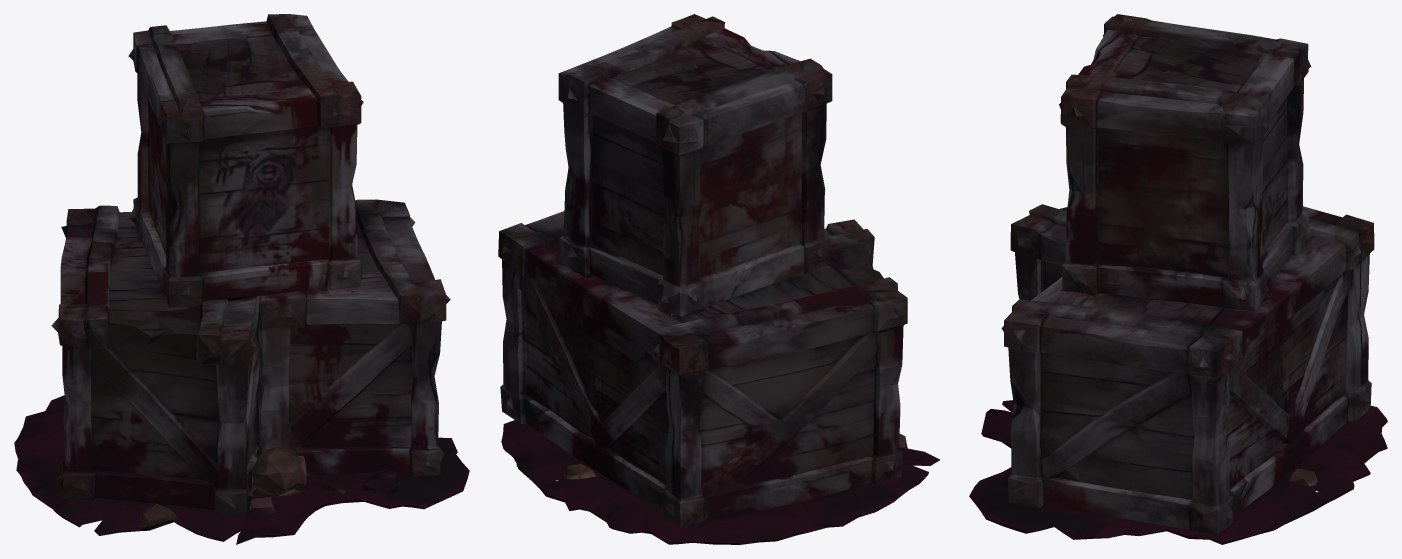
The model's file is caisses.glb.
The picture shows the model from 3 angles, left to right: view 1: azimuth 30°, elevation 25°; view 2: azimuth 150°, elevation 25°; view 3: azimuth 270°, elevation 25°; orthographic projection. The views are drawn at different scales.
Visible parts, largest first — view 1: world; view 2: world; view 3: world.
Part boxes in pixels (x1,y1,x2,y2): world: (14, 14, 469, 544); world: (498, 14, 940, 544); world: (969, 14, 1387, 544).
Bounding box in the file's own units: 1 × 0.9782 × 0.9208.
Materials: 1 (1 with a texture image).
